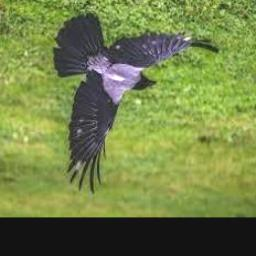Crow: (54, 12, 218, 195)
